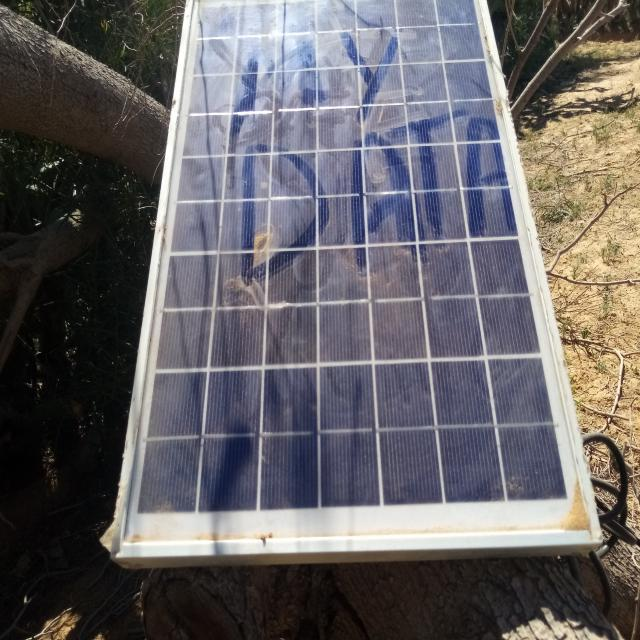faulty: (117, 0, 600, 554)
